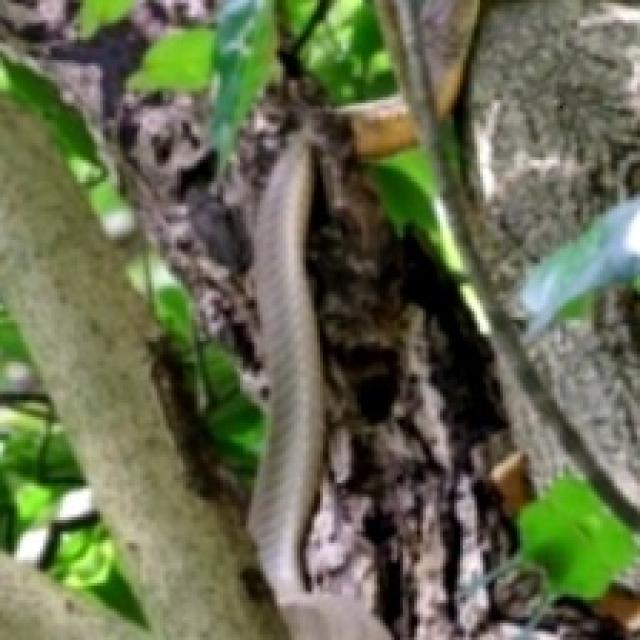king cobra: (249, 131, 323, 594)
